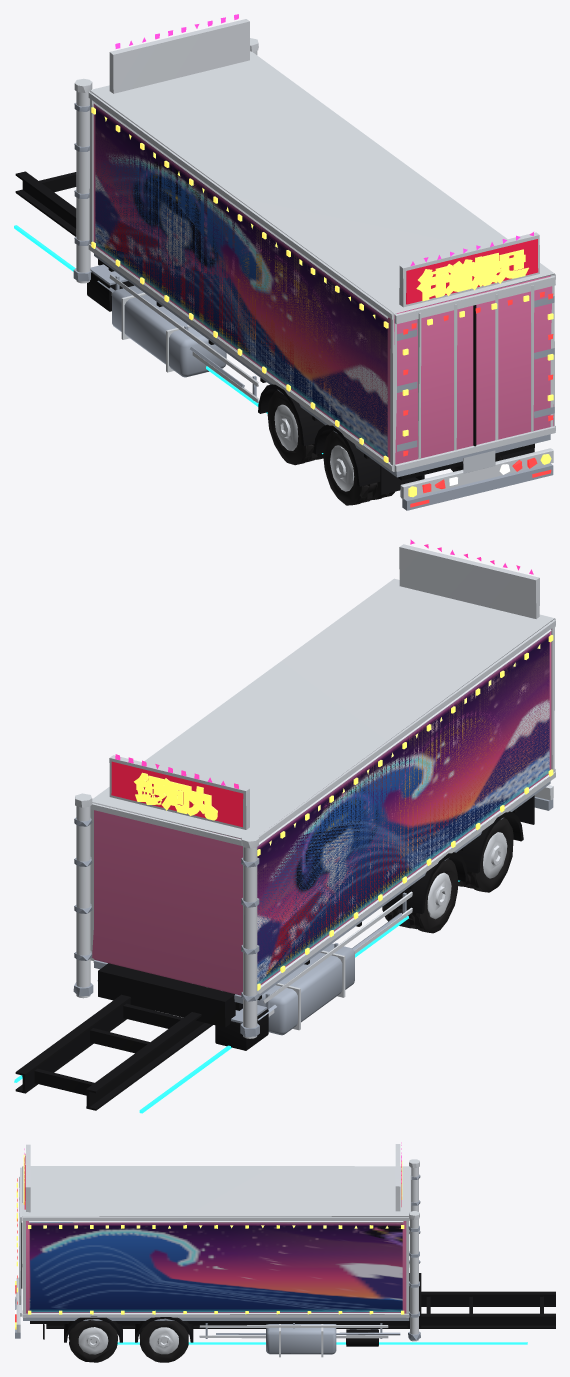
File: body_pinkbox_lod1.glb
3 renders of one model, top to bottom at view 1: azimuth 30°, elevation 25°; view 2: azimuth 150°, elevation 25°; view 3: azimuth 270°, elevation 25°, orthographic. The views are drawn at different scales.
Visible parts, largest first — view 1: lod1_chrome, lod1_mural, lod1_box_pink, lod1_steel, lod1_plastic_black, lod1_lamp_amber, lod1_rubber_tire, lod1_andon_panel, lod1_lamp_red, lod1_rubber; view 2: lod1_chrome, lod1_mural, lod1_box_pink, lod1_plastic_black, lod1_steel, lod1_lamp_amber, lod1_rubber_tire, lod1_andon_panel, lod1_lamp_cyan; view 3: lod1_mural, lod1_chrome, lod1_plastic_black, lod1_steel, lod1_rubber_tire, lod1_box_pink, lod1_lamp_cyan, lod1_lamp_amber.
Part boxes in pixels (box(x1,y1,x2,y2)): lod1_chrome: box(74, 19, 555, 499); lod1_mural: box(95, 105, 387, 456); lod1_box_pink: box(93, 104, 553, 464); lod1_steel: box(73, 103, 554, 510); lod1_plastic_black: box(15, 171, 534, 486); lod1_lamp_amber: box(91, 107, 553, 497); lod1_rubber_tire: box(267, 390, 502, 505); lod1_andon_panel: box(406, 239, 538, 304); lod1_lamp_red: box(403, 291, 553, 507); lod1_rubber: box(380, 448, 534, 494); lod1_chrome: box(75, 544, 555, 1038); lod1_mural: box(257, 632, 549, 983); lod1_box_pink: box(92, 629, 551, 995); lod1_plastic_black: box(15, 808, 523, 1110); lod1_steel: box(73, 781, 553, 1036); lod1_lamp_amber: box(134, 635, 553, 990); lod1_rubber_tire: box(382, 818, 513, 933); lod1_andon_panel: box(111, 761, 243, 827); lod1_lamp_cyan: box(14, 880, 459, 1113); lod1_mural: box(29, 1222, 402, 1312); lod1_chrome: box(16, 1144, 419, 1357); lod1_plastic_black: box(21, 1222, 555, 1346); lod1_steel: box(15, 1174, 420, 1354); lod1_rubber_tire: box(68, 1320, 188, 1362); lod1_box_pink: box(26, 1221, 406, 1313); lod1_lamp_cyan: box(117, 1342, 527, 1344); lod1_lamp_amber: box(15, 1154, 404, 1329).
Size of the model in its own units: 2.85 by 4.16 by 11.48.
Materials: 15 (2 with a texture image).
